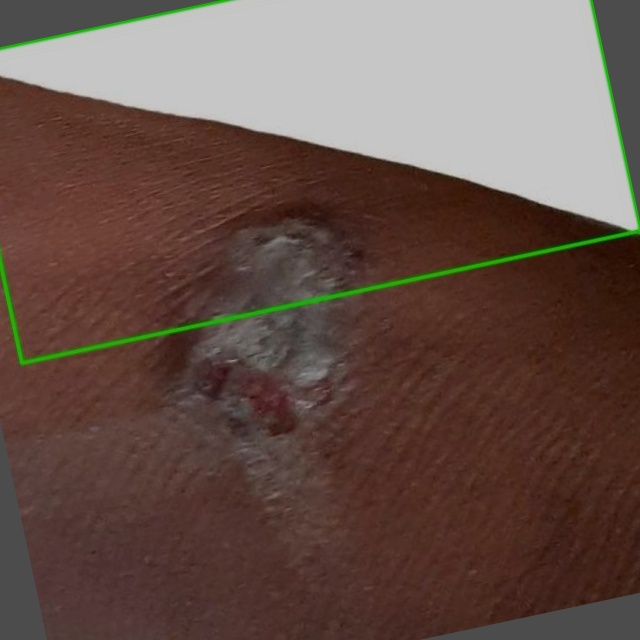Contact Dermatitis: (0, 0, 639, 363)
